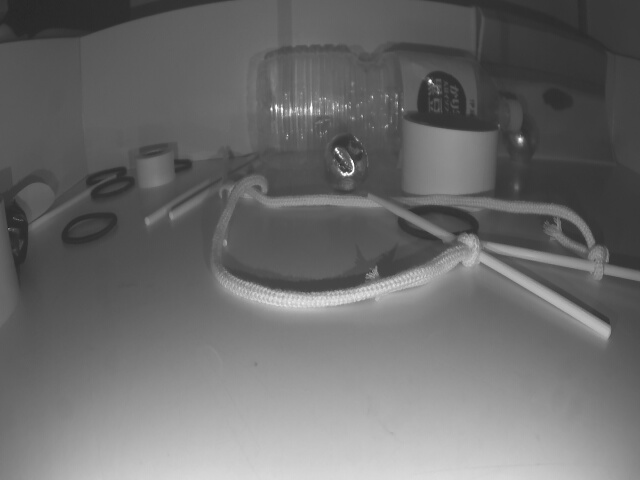Live: (328, 135, 365, 190), (508, 127, 535, 159)
